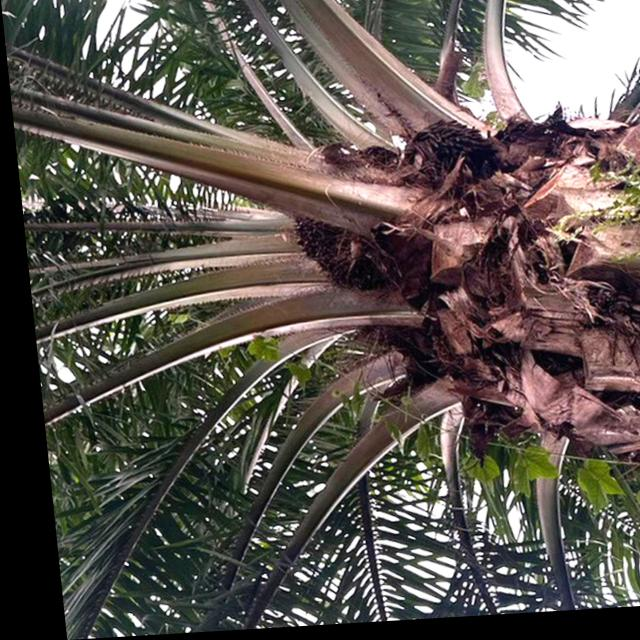ripe: (268, 193, 410, 315)
